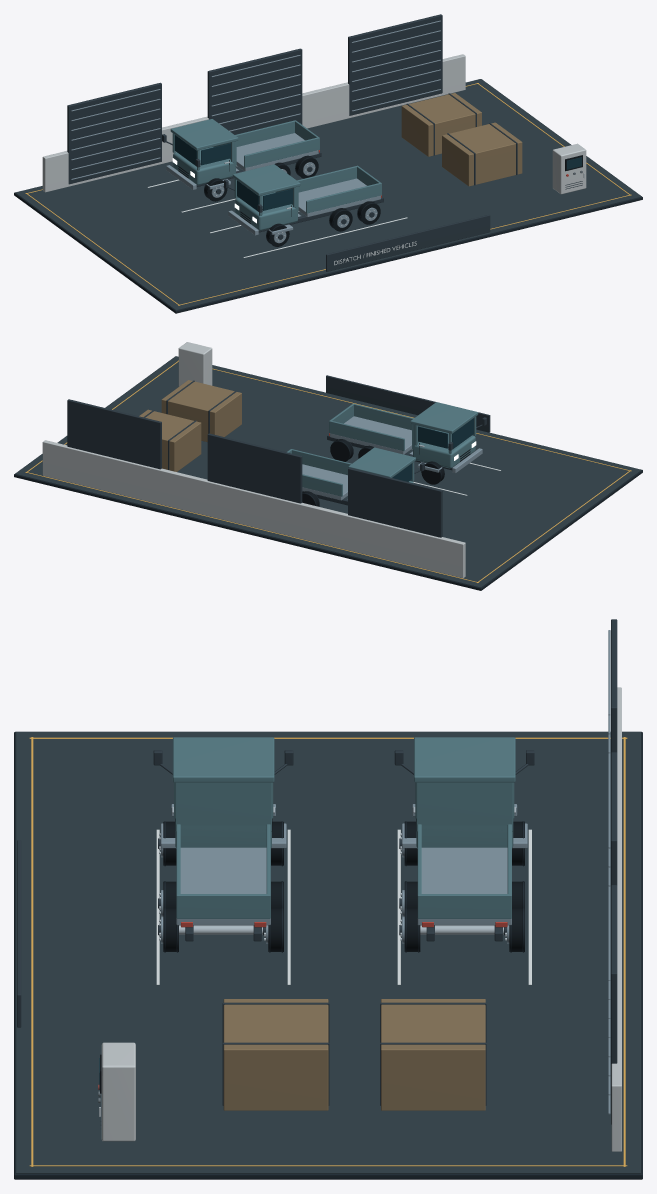
File: dispatch-yard.glb
The picture shows the model from 3 angles, top to bottom: view 1: azimuth 30°, elevation 25°; view 2: azimuth 150°, elevation 25°; view 3: azimuth 270°, elevation 25°; orthographic projection. The views are drawn at different scales.
Visible parts, largest first — view 1: dispatch_yard_Workshop_Epoxy, dispatch_yard_Enamel_Graphite, dispatch_yard_Truck_Petrol, dispatch_yard_Packing_Plywood, dispatch_yard_Brushed_Aluminium, dispatch_yard_Enamel_Pearl, dispatch_yard_Cast_Base, dispatch_yard_Display_Glass, dispatch_yard_Rubber_Seal, dispatch_yard_Safety_Amber, dispatch_yard_Label_White; view 2: dispatch_yard_Workshop_Epoxy, dispatch_yard_Enamel_Graphite, dispatch_yard_Enamel_Pearl, dispatch_yard_Truck_Petrol, dispatch_yard_Packing_Plywood, dispatch_yard_Cast_Base, dispatch_yard_Brushed_Aluminium, dispatch_yard_Safety_Amber, dispatch_yard_Rubber_Seal, dispatch_yard_Display_Glass; view 3: dispatch_yard_Workshop_Epoxy, dispatch_yard_Truck_Petrol, dispatch_yard_Packing_Plywood, dispatch_yard_Brushed_Aluminium, dispatch_yard_Enamel_Graphite, dispatch_yard_Cast_Base, dispatch_yard_Enamel_Pearl, dispatch_yard_Rubber_Seal, dispatch_yard_Safety_Amber, dispatch_yard_Label_White, dispatch_yard_Machined_Steel.
Boxes of the visible parts, box(x1,y1,x2,y2) form: dispatch_yard_Workshop_Epoxy: box(15, 79, 641, 310); dispatch_yard_Enamel_Graphite: box(67, 14, 582, 271); dispatch_yard_Truck_Petrol: box(170, 119, 381, 230); dispatch_yard_Packing_Plywood: box(401, 93, 522, 186); dispatch_yard_Brushed_Aluminium: box(71, 20, 440, 243); dispatch_yard_Enamel_Pearl: box(42, 54, 586, 194); dispatch_yard_Cast_Base: box(14, 79, 642, 313); dispatch_yard_Display_Glass: box(174, 135, 581, 211); dispatch_yard_Rubber_Seal: box(178, 155, 582, 246); dispatch_yard_Safety_Amber: box(25, 83, 631, 305); dispatch_yard_Label_White: box(147, 166, 416, 265); dispatch_yard_Workshop_Epoxy: box(15, 356, 641, 587); dispatch_yard_Enamel_Graphite: box(67, 375, 490, 537); dispatch_yard_Enamel_Pearl: box(42, 342, 465, 578); dispatch_yard_Truck_Petrol: box(287, 402, 478, 496); dispatch_yard_Packing_Plywood: box(139, 380, 241, 471); dispatch_yard_Cast_Base: box(14, 356, 642, 590); dispatch_yard_Brushed_Aluminium: box(302, 416, 482, 500); dispatch_yard_Safety_Amber: box(25, 360, 631, 582); dispatch_yard_Rubber_Seal: box(302, 439, 470, 506); dispatch_yard_Display_Glass: box(392, 418, 473, 481); dispatch_yard_Workshop_Epoxy: box(16, 731, 640, 1173); dispatch_yard_Truck_Petrol: box(172, 737, 515, 918); dispatch_yard_Packing_Plywood: box(223, 999, 485, 1110); dispatch_yard_Brushed_Aluminium: box(160, 630, 610, 1114); dispatch_yard_Enamel_Graphite: box(17, 619, 617, 1128); dispatch_yard_Cast_Base: box(14, 731, 642, 1179); dispatch_yard_Enamel_Pearl: box(101, 687, 621, 1151); dispatch_yard_Rubber_Seal: box(100, 819, 524, 1093); dispatch_yard_Safety_Amber: box(29, 737, 627, 1166); dispatch_yard_Label_White: box(156, 829, 531, 984); dispatch_yard_Machined_Steel: box(99, 807, 515, 1116).
Bounding box in the file's own units: 20 × 3.42 × 12.
